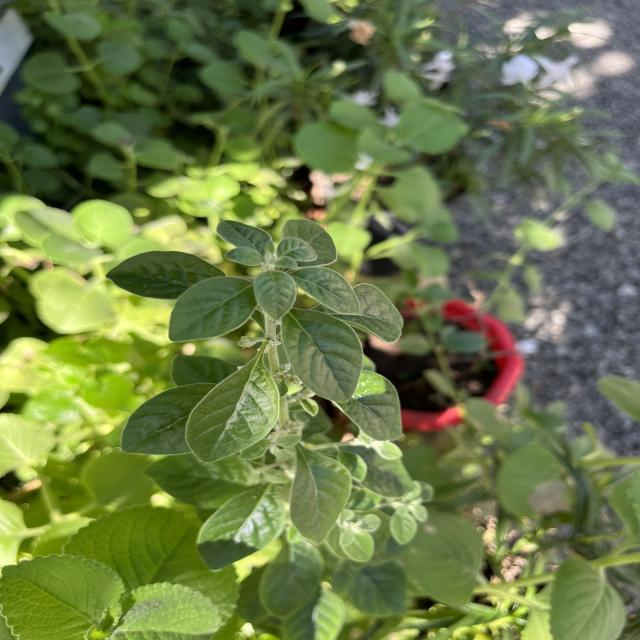Aerva lanata: (182, 347, 282, 464), (278, 306, 365, 405), (119, 381, 219, 458), (102, 248, 228, 302), (322, 366, 405, 443), (309, 280, 406, 344)
